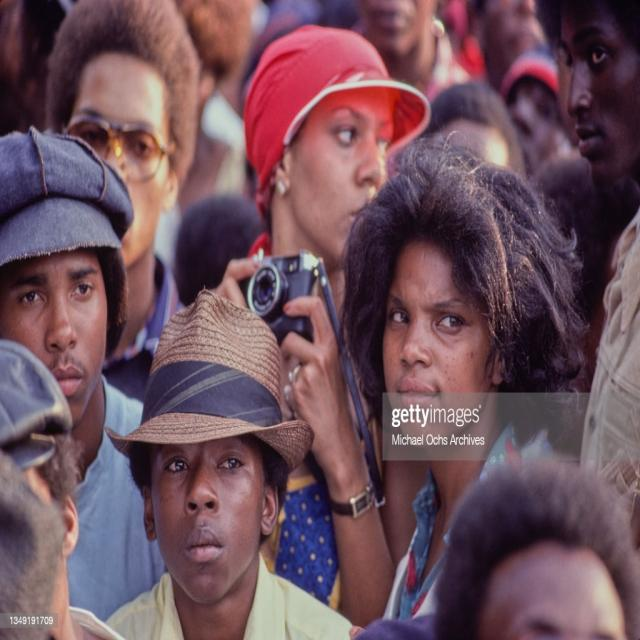cap: (243, 23, 434, 271), (1, 131, 131, 414)
hat: (108, 291, 314, 613)
head: (360, 157, 540, 460), (47, 1, 197, 266), (545, 0, 640, 181)
